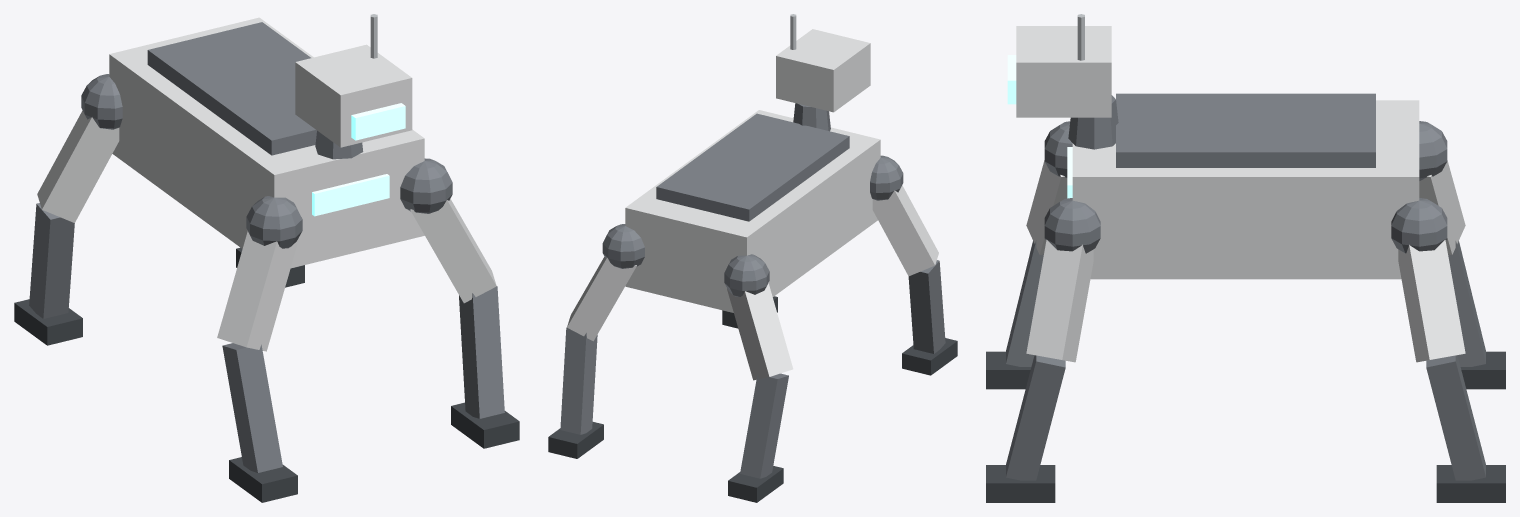
File: quadruped-scout.glb
The picture shows the model from 3 angles, left to right: view 1: azimuth 30°, elevation 25°; view 2: azimuth 150°, elevation 25°; view 3: azimuth 270°, elevation 25°; orthographic projection. The views are drawn at different scales.
Visible parts, largest first — view 1: quadruped-scout, head/shell, head/glow, head/graphite; view 2: quadruped-scout, head/shell, head/graphite; view 3: quadruped-scout, head/shell, head/graphite.
Boxes of the visible parts, x1,y1,x2,y2 form: quadruped-scout: [14, 17, 519, 502]; head/shell: [295, 44, 412, 147]; head/glow: [351, 103, 405, 140]; head/graphite: [315, 130, 363, 159]; quadruped-scout: [548, 110, 957, 502]; head/shell: [776, 29, 870, 112]; head/graphite: [793, 103, 830, 131]; quadruped-scout: [986, 93, 1505, 502]; head/shell: [1016, 26, 1111, 117]; head/graphite: [1068, 95, 1118, 149].
Bounding box in the file's own units: 0.7686 × 1.11 × 1.2.
